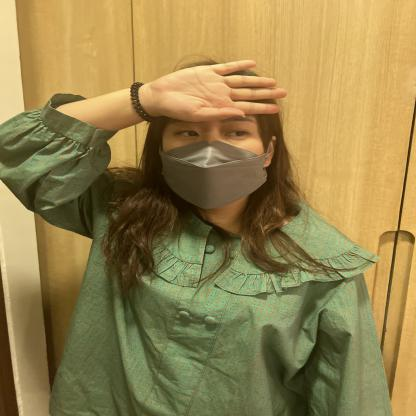Sick: (41, 30, 306, 179)
